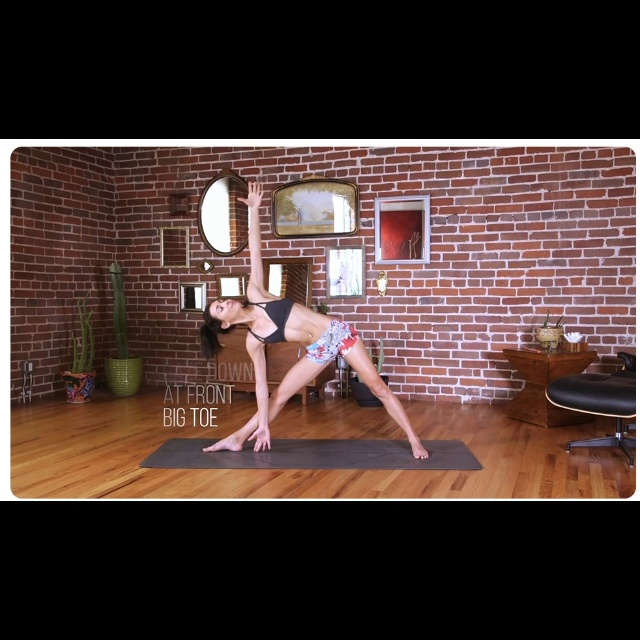Triangle_Pose: (182, 179, 441, 469)
